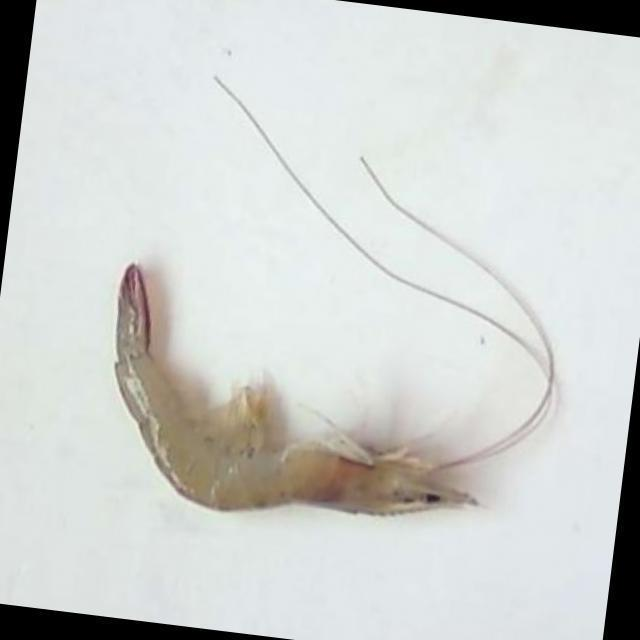shrimp: (115, 265, 479, 515)
